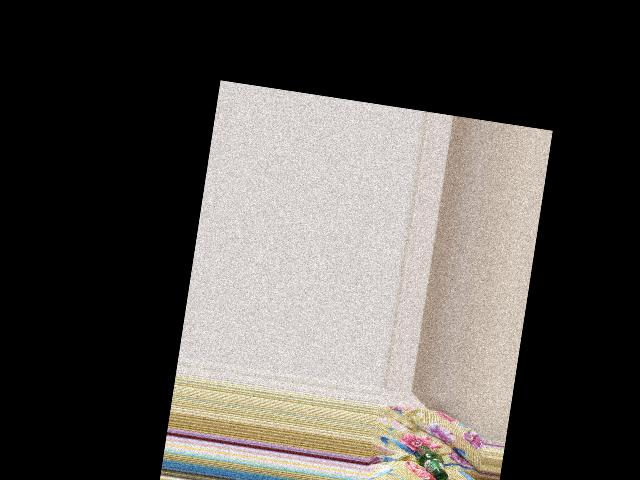beer: (411, 444, 452, 480)
